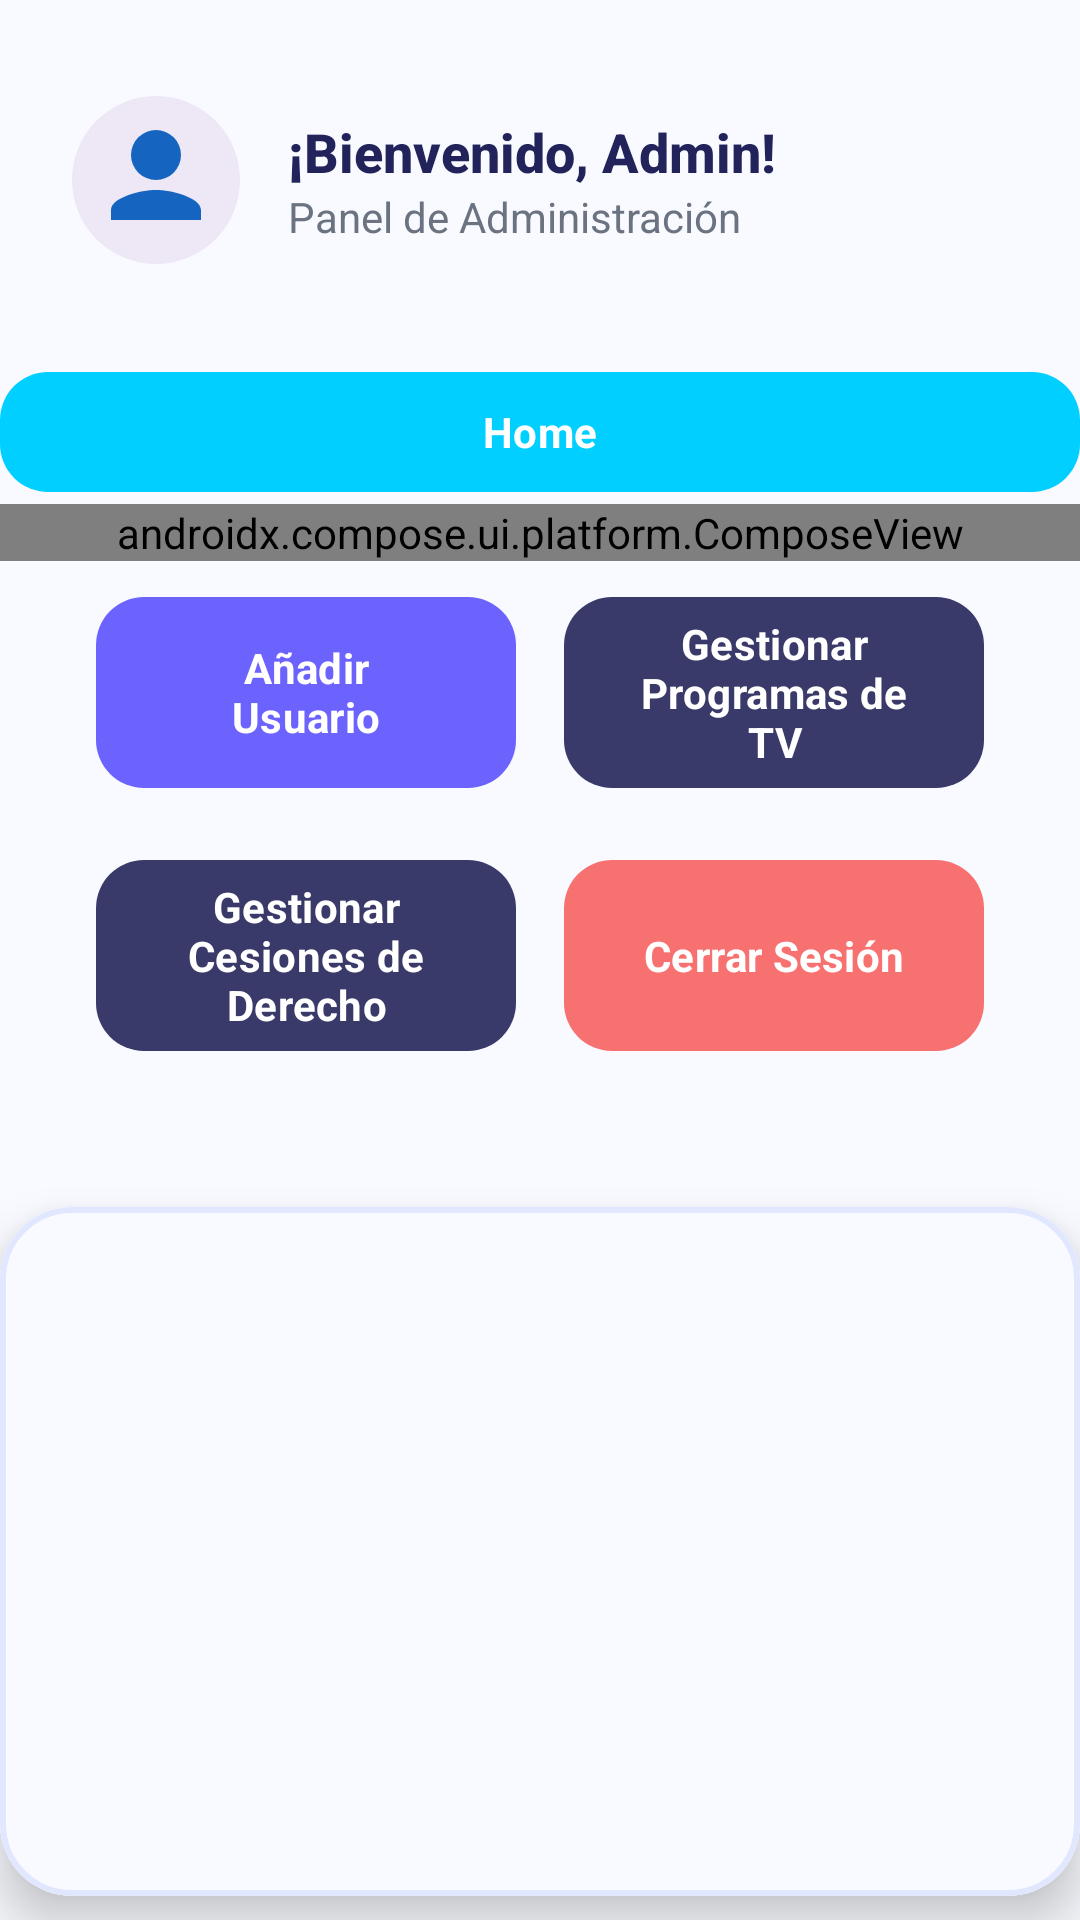

Icon bounding boxes for this 1080px x 1920px phone screenshot, format (x1, y1, x2, y2):
Avatar: (111, 130, 201, 220)
